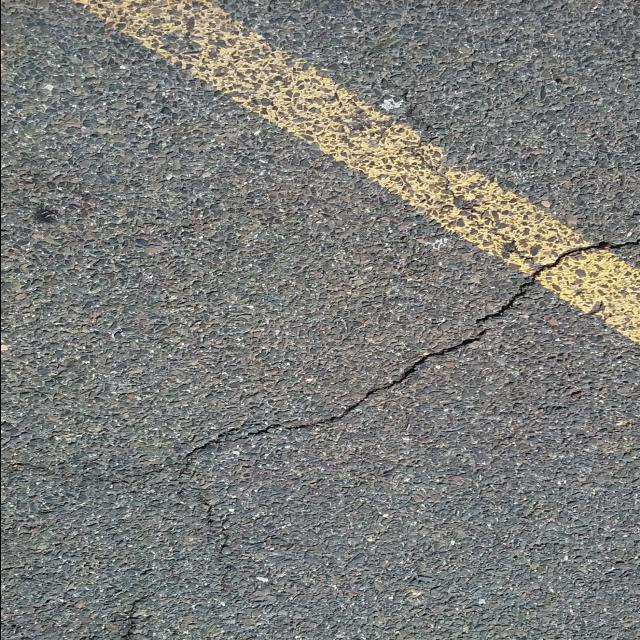Crack: (172, 80, 640, 589), (120, 591, 152, 640)
